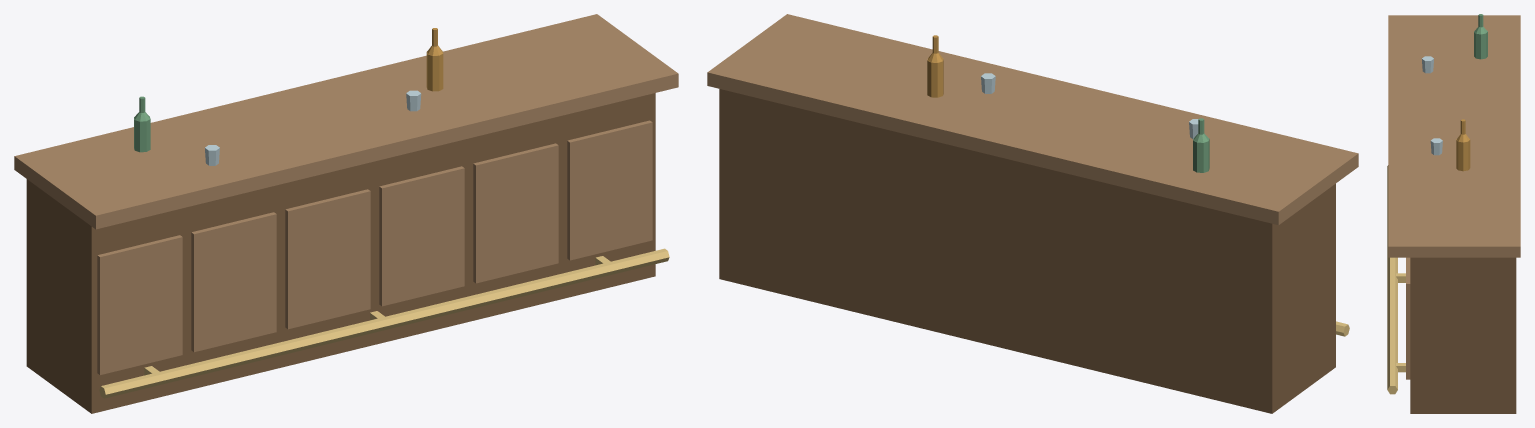
File: SM_Bar_Counter.glb
The picture shows the model from 3 angles, left to right: view 1: azimuth 30°, elevation 25°; view 2: azimuth 150°, elevation 25°; view 3: azimuth 270°, elevation 25°; orthographic projection. The views are drawn at different scales.
Visible parts, largest first — view 1: SM_Bar_Counter; view 2: SM_Bar_Counter; view 3: SM_Bar_Counter.
Part boxes in pixels (x1,y1,x2,y2): SM_Bar_Counter: [14, 14, 678, 413]; SM_Bar_Counter: [707, 14, 1358, 413]; SM_Bar_Counter: [1387, 14, 1520, 413].
Size of the model in its own units: 3.1 by 1.37 by 0.755.
